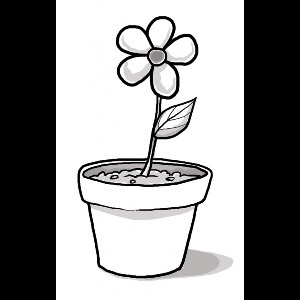flowerpot: (76, 154, 212, 277)
